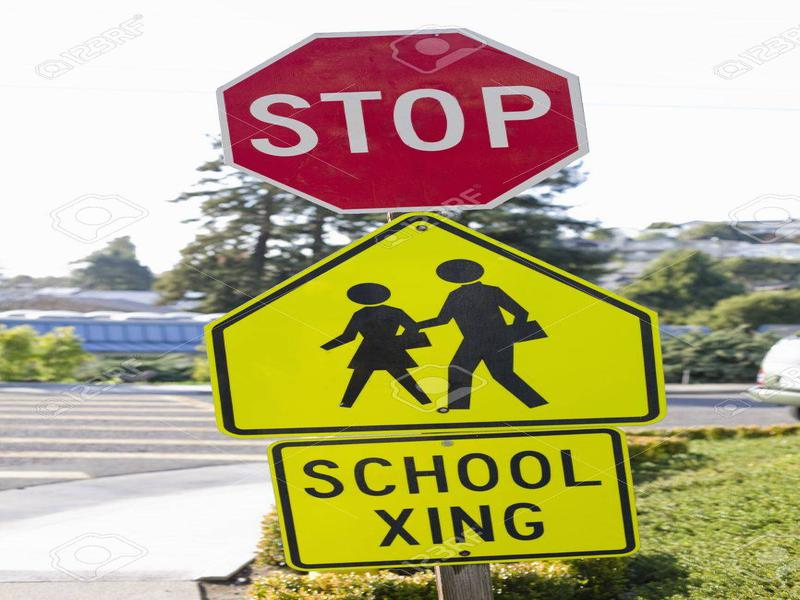slow: (208, 216, 668, 429)
stop: (212, 27, 597, 208)
